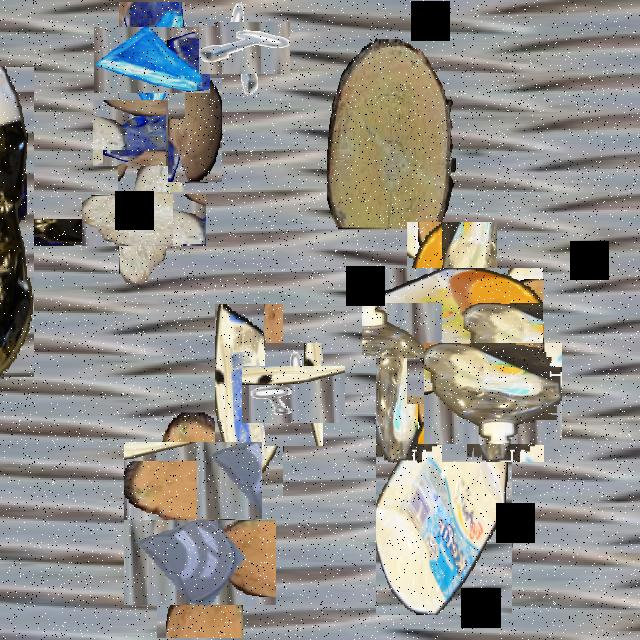glass: (140, 502, 260, 622), (105, 88, 197, 179), (106, 15, 198, 106)
metal: (254, 354, 334, 435), (208, 12, 280, 84)
plastic: (376, 356, 512, 615), (384, 245, 520, 381), (433, 333, 553, 453), (215, 304, 283, 496), (0, 67, 34, 377), (0, 189, 56, 276)
wood: (327, 39, 455, 228), (138, 427, 248, 537), (100, 176, 188, 265), (168, 78, 222, 182), (418, 362, 462, 444)
